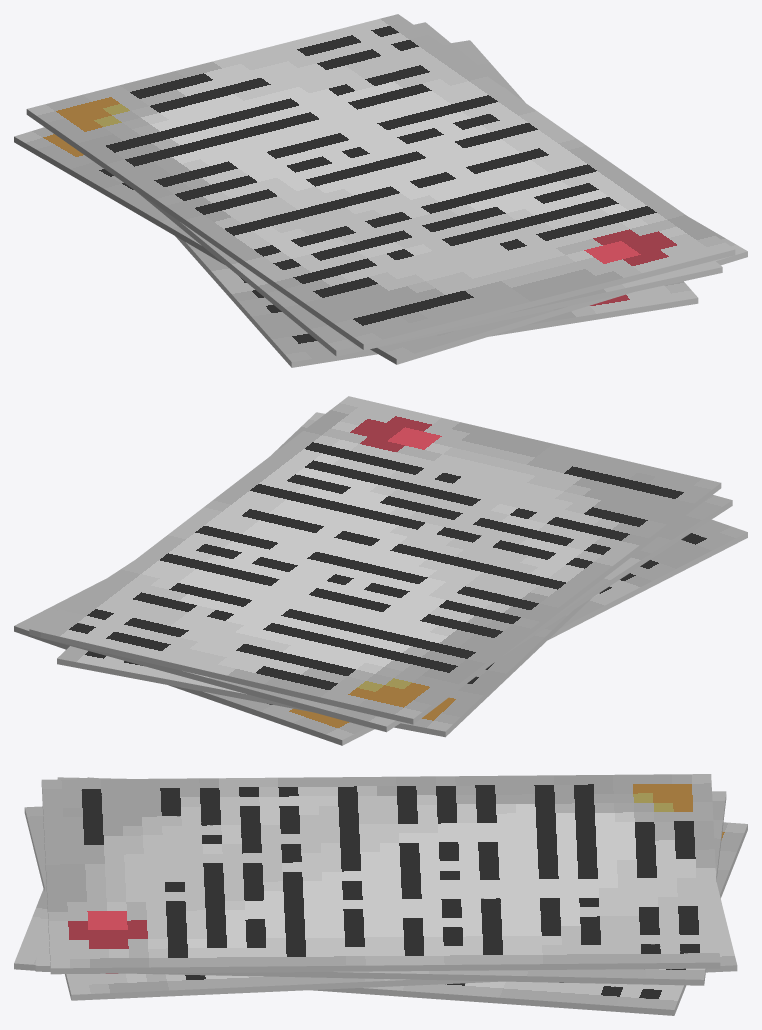
File: Stacked Paper Documents.obj
The picture shows the model from 3 angles, top to bottom: view 1: azimuth 30°, elevation 25°; view 2: azimuth 150°, elevation 25°; view 3: azimuth 270°, elevation 25°; orthographic projection. The views are drawn at different scales.
Visible parts, largest first — view 1: Paper_Documents(Stacked).002; view 2: Paper_Documents(Stacked).002; view 3: Paper_Documents(Stacked).002.
Boxes of the visible parts, x1=… form: Paper_Documents(Stacked).002: x1=14, y1=14, x2=747, y2=367; Paper_Documents(Stacked).002: x1=14, y1=396, x2=747, y2=745; Paper_Documents(Stacked).002: x1=14, y1=774, x2=747, y2=1015.
Size of the model in its own units: 1.24 by 0.0709 by 1.66.
